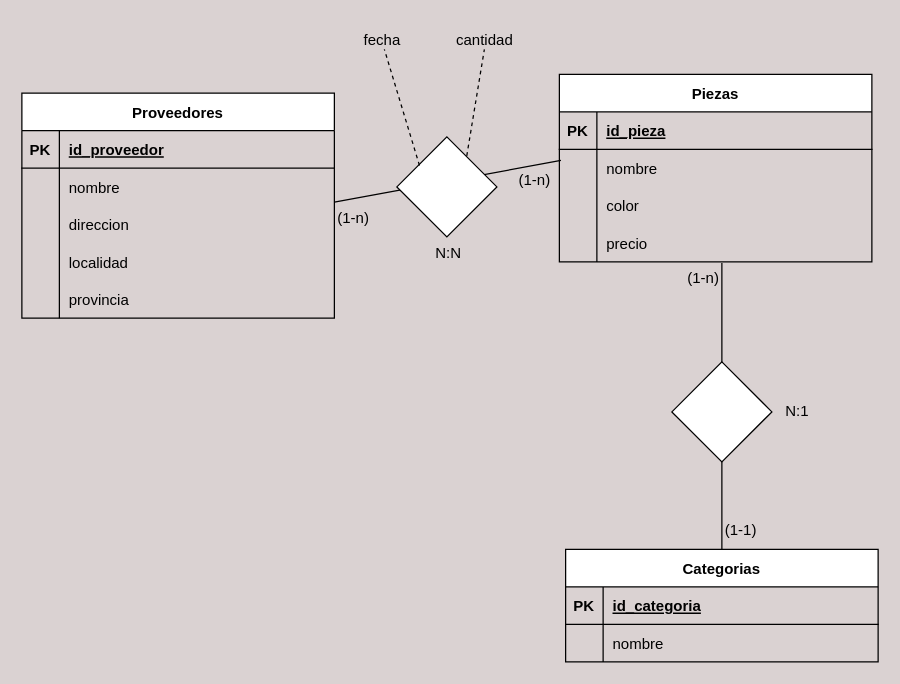
This 900x684 diagram has some shape labels left out. The centre of each missing label's shape, as x and y in pixels:
"suministra" goes at (x=446, y=186).
"tiene" goes at (x=721, y=411).
